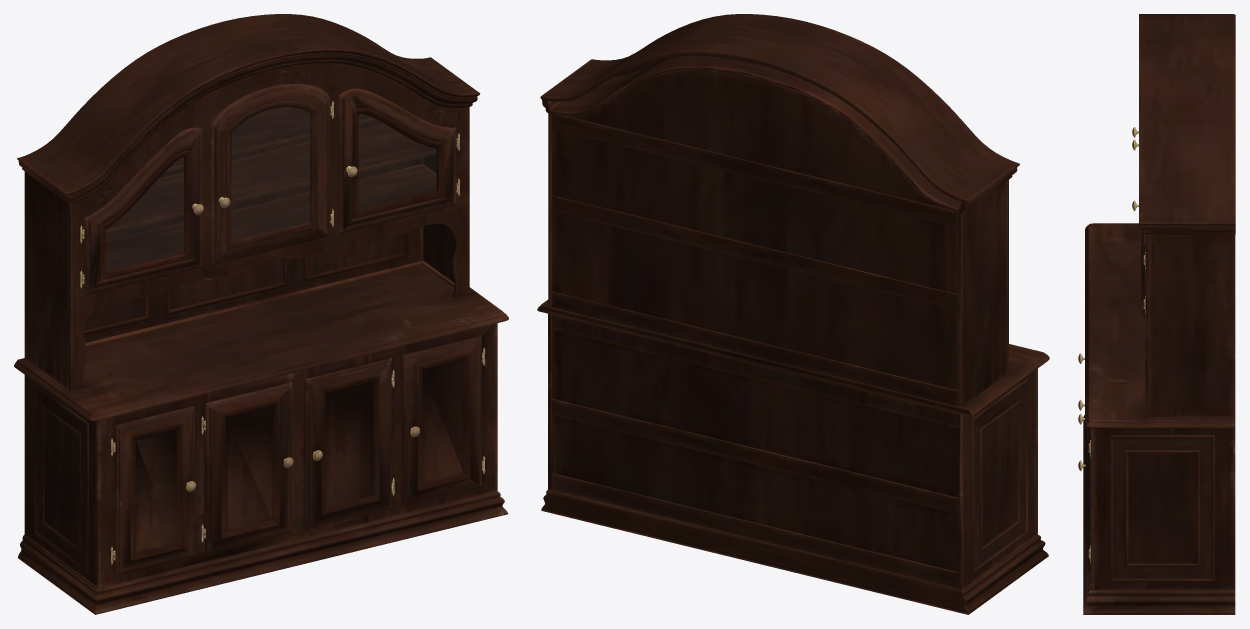
File: vintage_cabinet_01.glb
The picture shows the model from 3 angles, left to right: view 1: azimuth 30°, elevation 25°; view 2: azimuth 150°, elevation 25°; view 3: azimuth 270°, elevation 25°; orthographic projection. The views are drawn at different scales.
Visible parts, largest first — view 1: vintage_cabinet_01_body, vintage_cabinet_01_door_01; view 2: vintage_cabinet_01_body; view 3: vintage_cabinet_01_body.
Part boxes in pixels (x1,y1,x2,y2): vintage_cabinet_01_body: (14,14,508,614); vintage_cabinet_01_door_01: (106,107,436,271); vintage_cabinet_01_body: (537,14,1049,614); vintage_cabinet_01_body: (1078,14,1235,614).
Bounding box in the file's own units: 2.02 × 2.24 × 0.6699.
3 materials, 2 textured.
